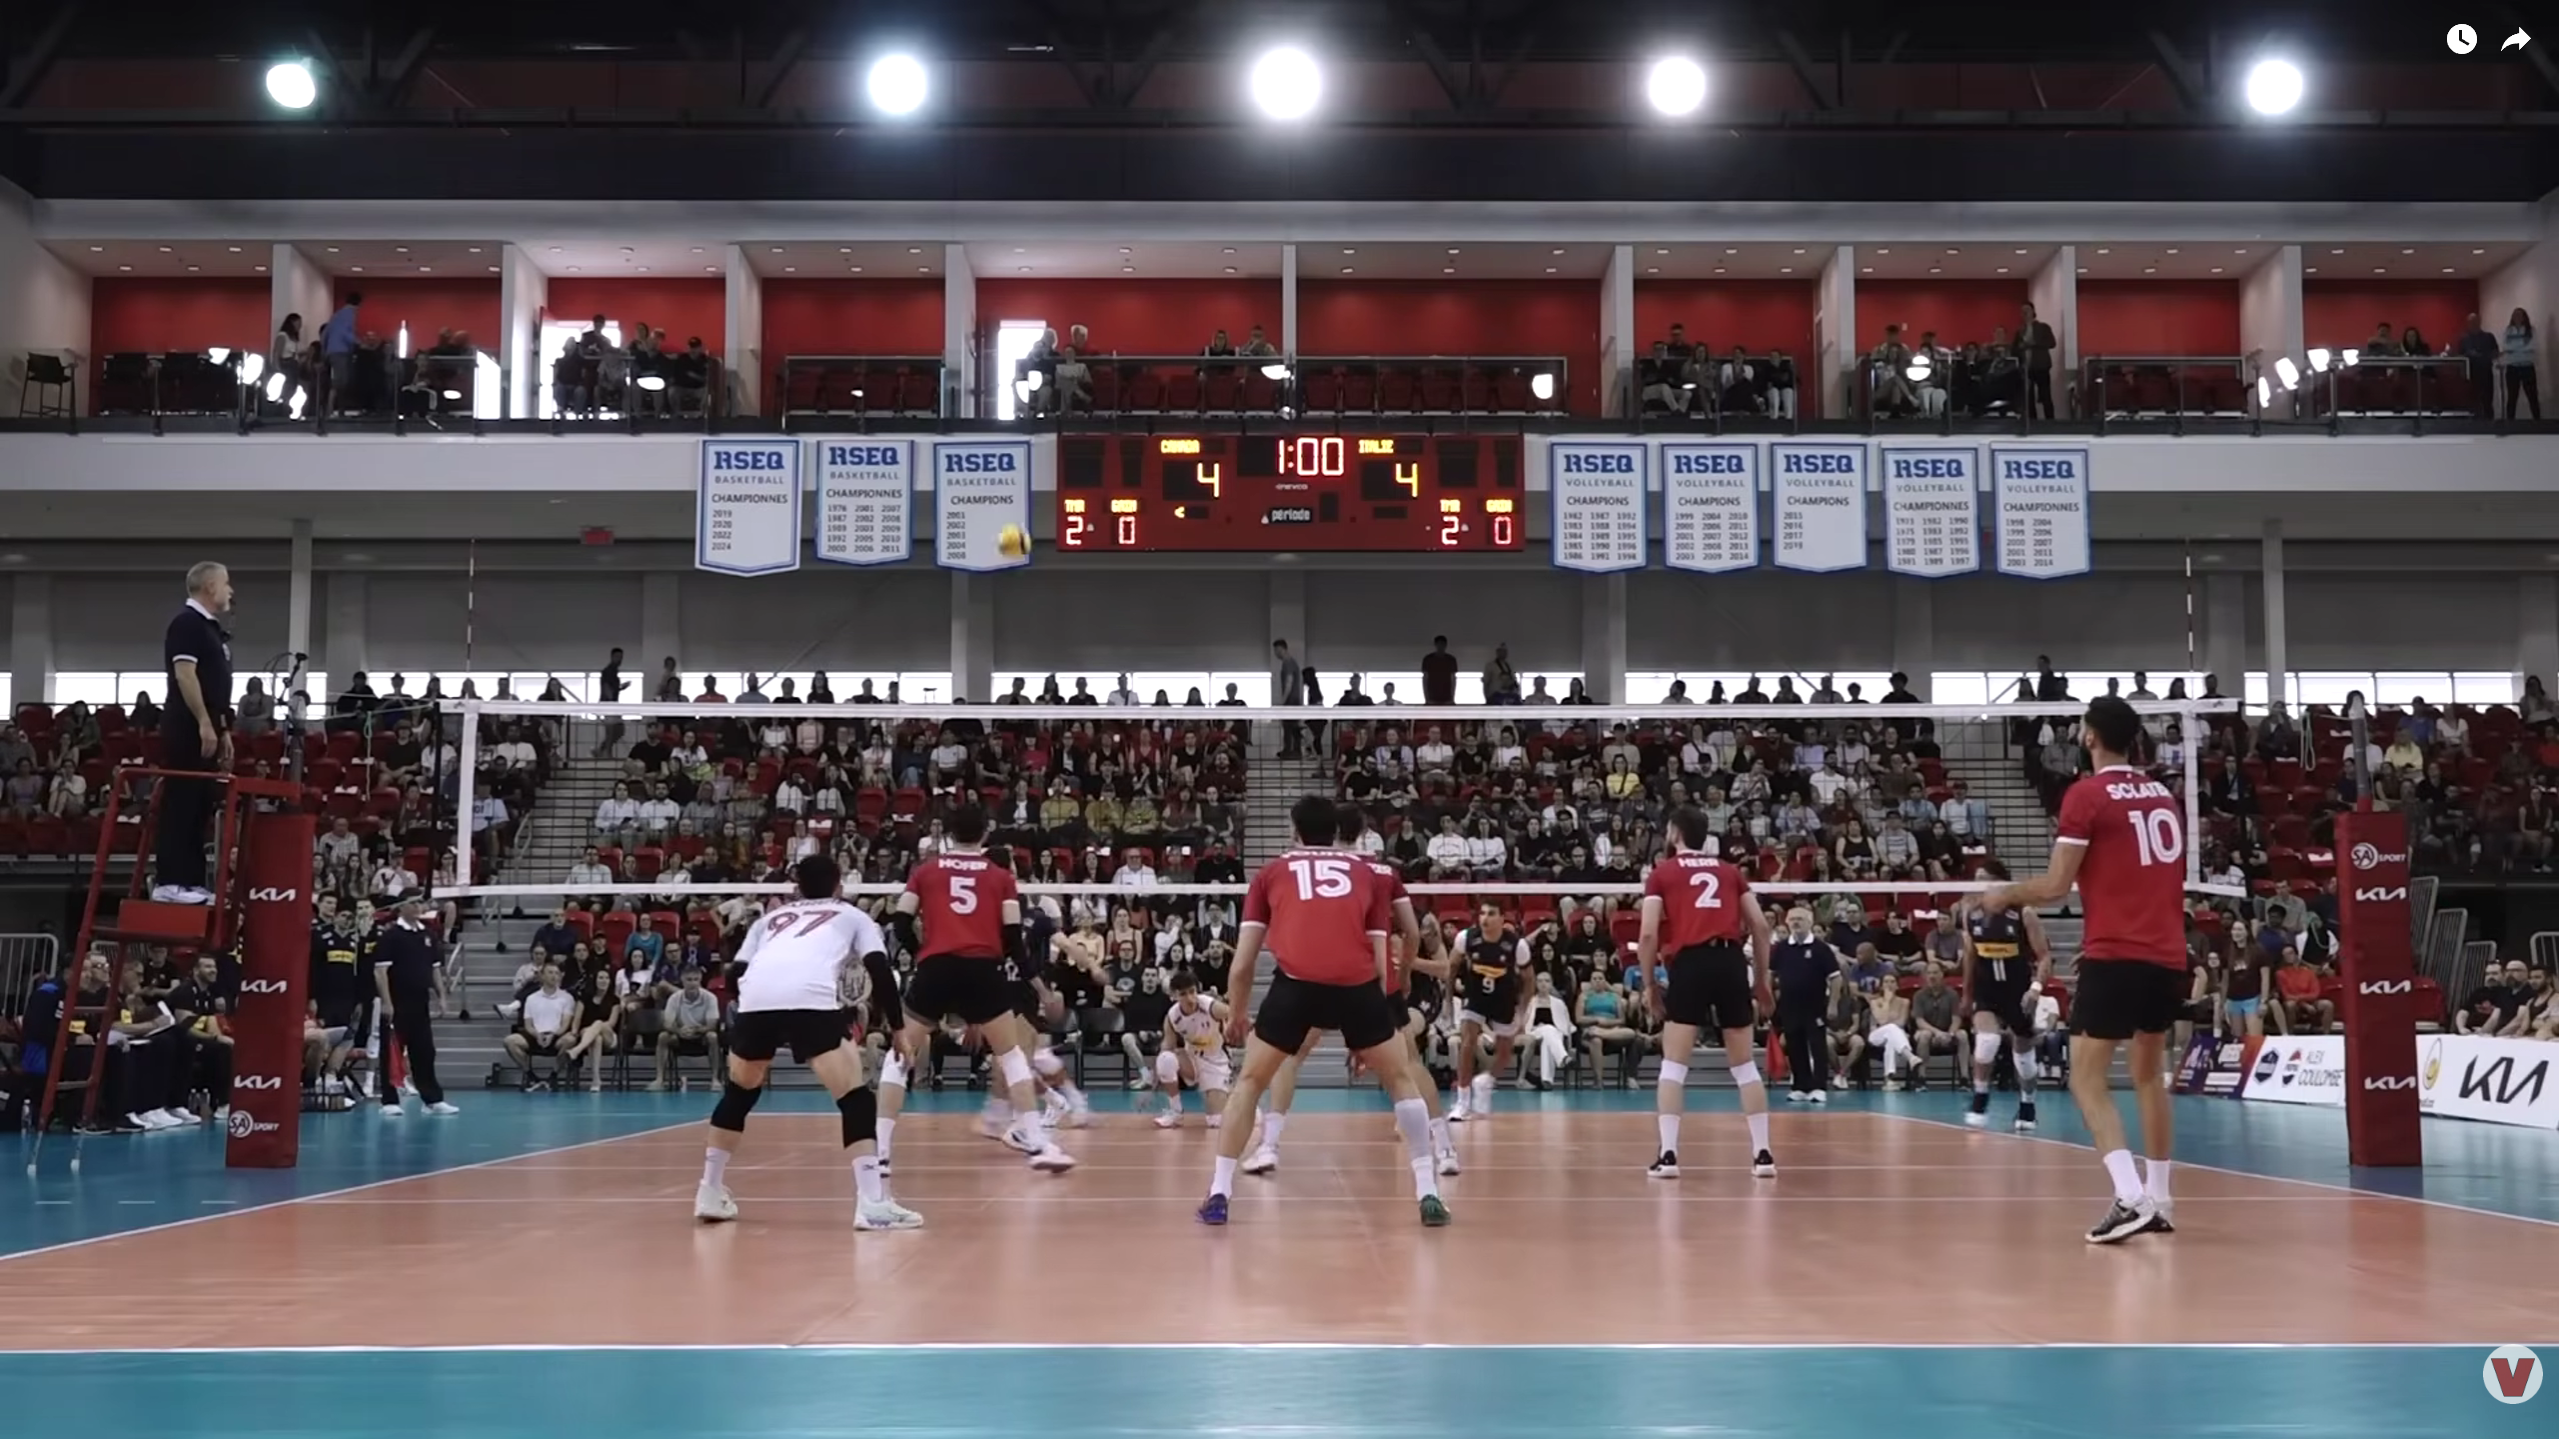Ball: (997, 522, 1033, 560)
